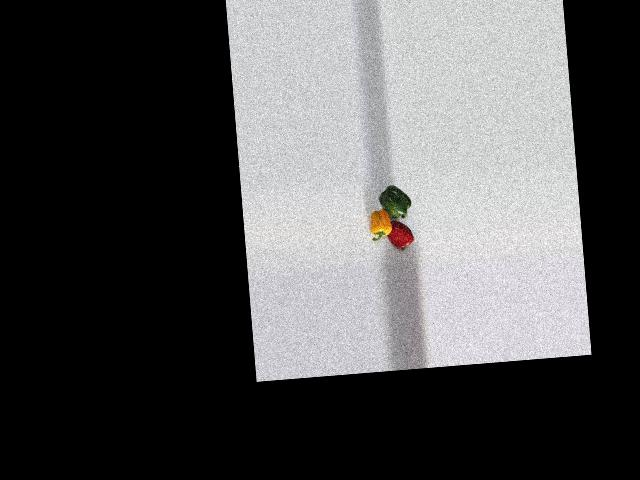bell_pepper: (366, 208, 397, 241)
